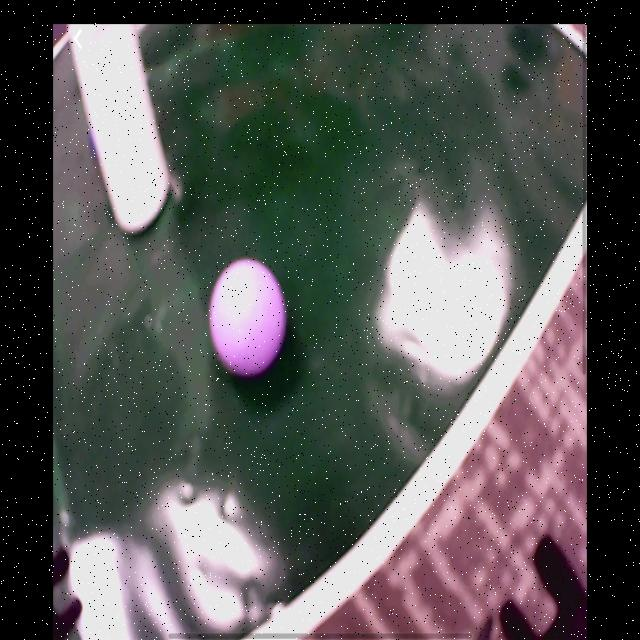ball: (207, 260, 288, 376)
